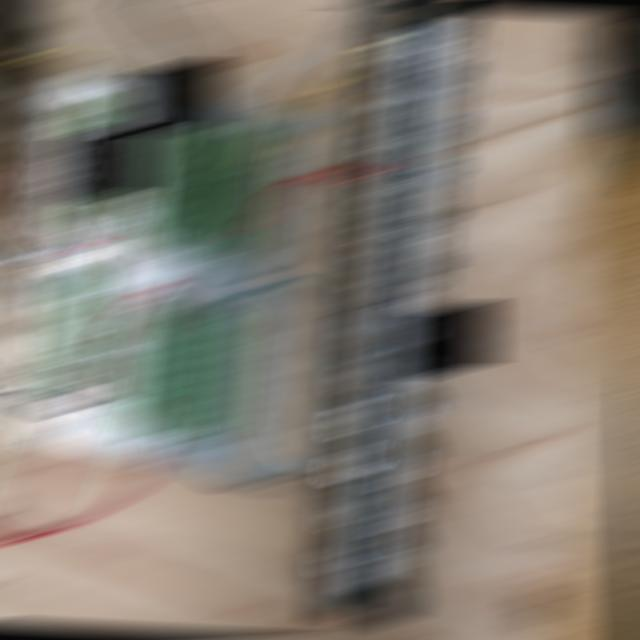Phillips_Block: (313, 0, 473, 624)
Terminal_1: (57, 102, 115, 226), (42, 270, 97, 393)
Terminal_2: (133, 119, 192, 239), (153, 317, 211, 437), (117, 309, 175, 428), (172, 128, 229, 246), (210, 137, 266, 255)
